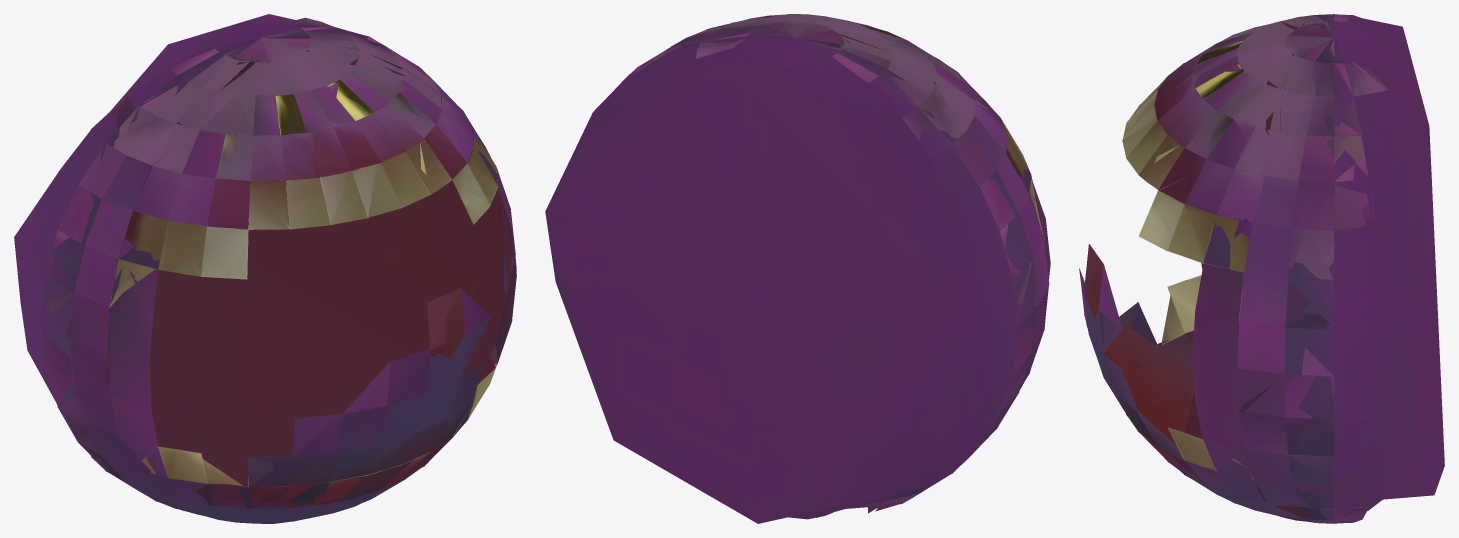
File: MZ4250 - Animated Mimic Face.glb
3 renders of one model, left to right at view 1: azimuth 30°, elevation 25°; view 2: azimuth 150°, elevation 25°; view 3: azimuth 270°, elevation 25°, orthographic.
Parts seen in each view (by area): view 1: mimic.003; view 2: mimic.003; view 3: mimic.003.
Part boxes in pixels (<box>): mimic.003: <box>14,14,516,523</box>; mimic.003: <box>545,14,1050,523</box>; mimic.003: <box>1079,14,1444,523</box>.
Size of the model in its own units: 1.79 by 1.79 by 1.28.
1 material, 1 textured.
